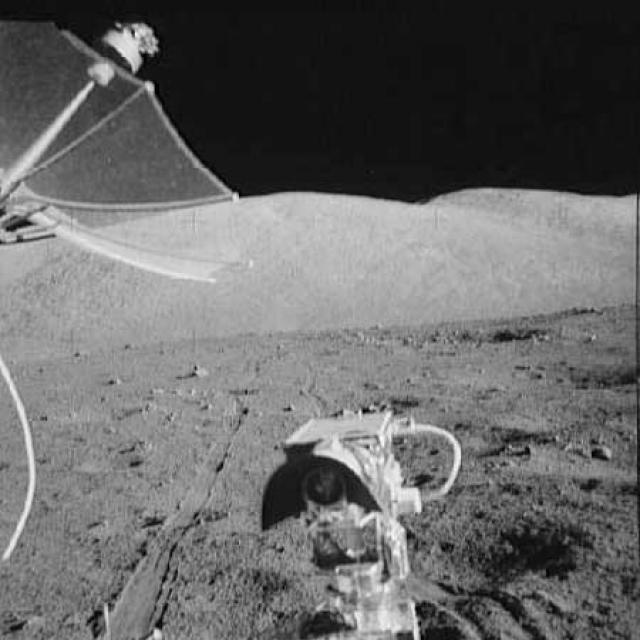artifact: (0, 0, 254, 296), (250, 402, 455, 640), (0, 358, 59, 581)
crater: (415, 521, 585, 589), (537, 364, 632, 392), (456, 323, 546, 349)
